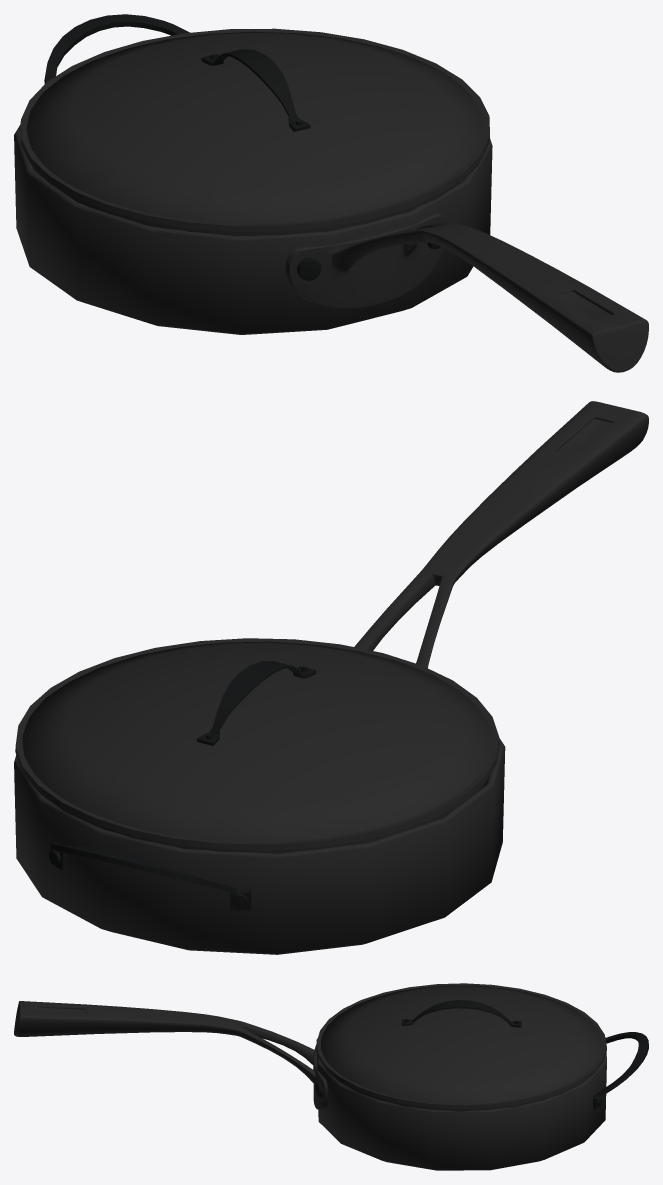
File: Pot002.FBX
The picture shows the model from 3 angles, top to bottom: view 1: azimuth 30°, elevation 25°; view 2: azimuth 150°, elevation 25°; view 3: azimuth 270°, elevation 25°; orthographic projection. The views are drawn at different scales.
Visible parts, largest first — view 1: Pot002; view 2: Pot002; view 3: Pot002.
Boxes of the visible parts, x1,y1,x2,y2 form: Pot002: [14, 14, 648, 372]; Pot002: [14, 401, 648, 954]; Pot002: [14, 983, 648, 1170].
Bounding box in the file's own units: 0.6659 × 0.28 × 1.45.
Materials: 2 (2 with a texture image).
